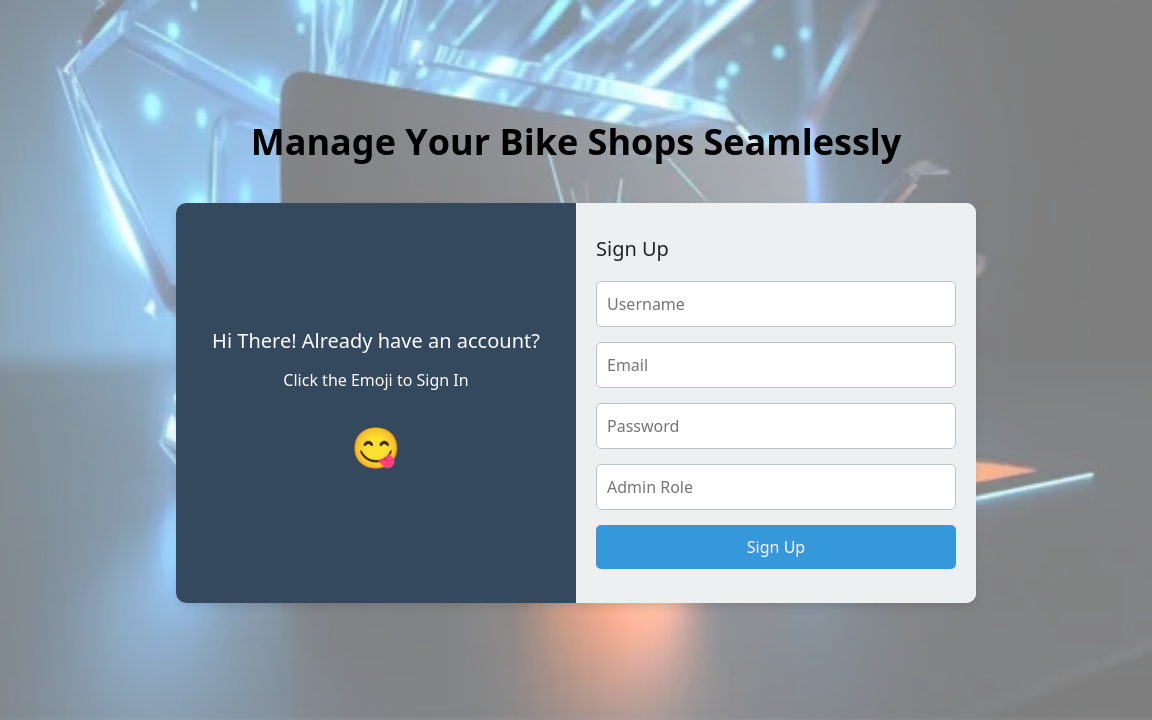
Test: Admin Login Page › displays the login form after clicking the emoji
The width and height of the screenshot is (1152, 720).
Expected: the heading "Sign Up" is shown, top-left (596, 235), bottom-right (669, 262)
Click the element with class "emoji" at (376, 447), box top-left (351, 417), bottom-right (401, 477)
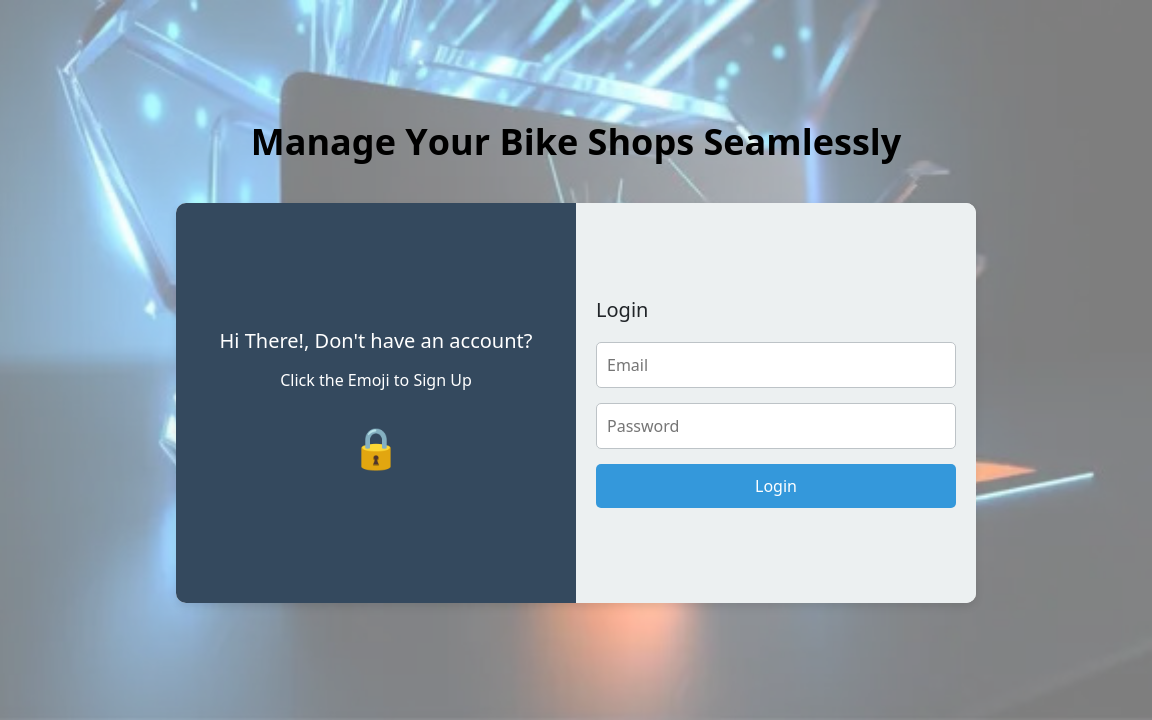
Expected: the heading "Login" is shown, top-left (596, 296), bottom-right (648, 323)
